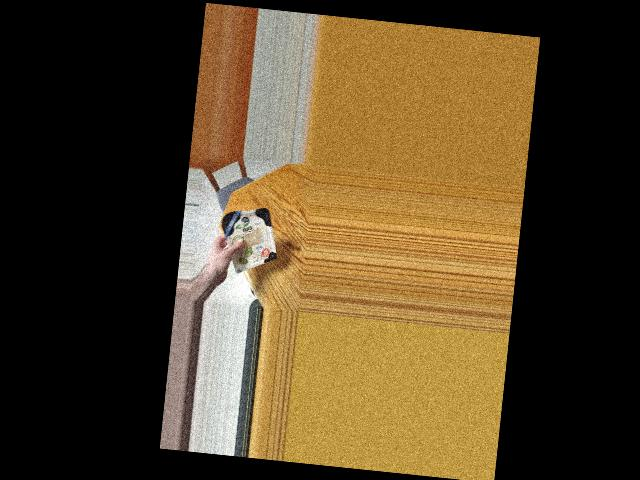cheese: (215, 202, 280, 266)
